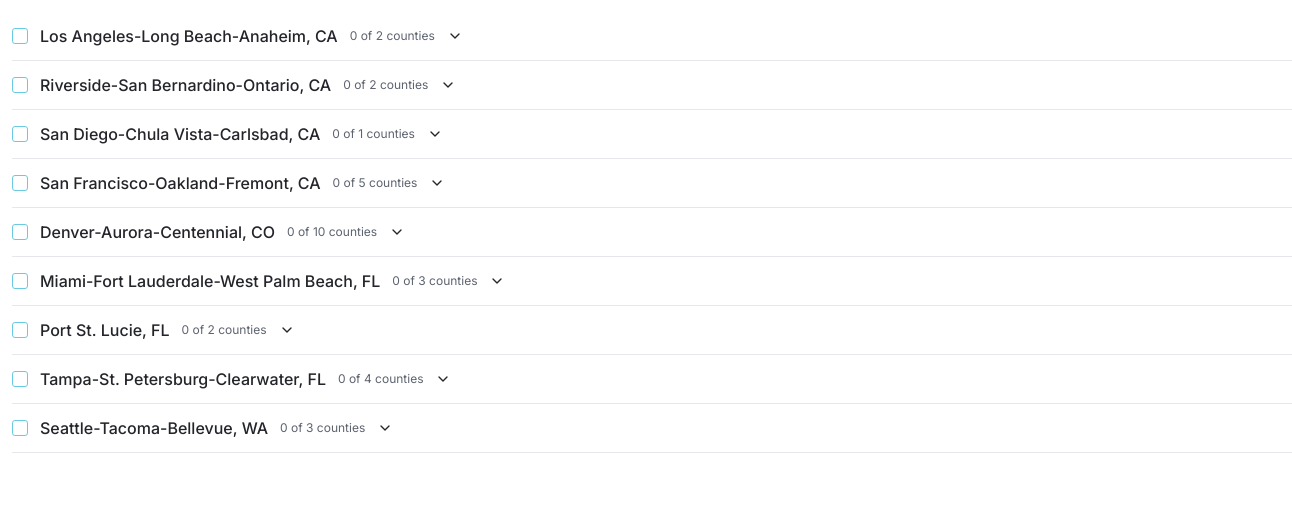
Test: CountySubscriptionAccordion › CountySubscriptionAccordion — renders counties grouped under their MSA
Expected: the text "Port St. Lucie, FL" is shown, [40,318,170,342]
What coordinates should you click on to do the following:
click the button "Port St. Lucie, FL 0 of 2 counties"
I would click on:
 (167, 330)
Its box is [40,306,295,354].
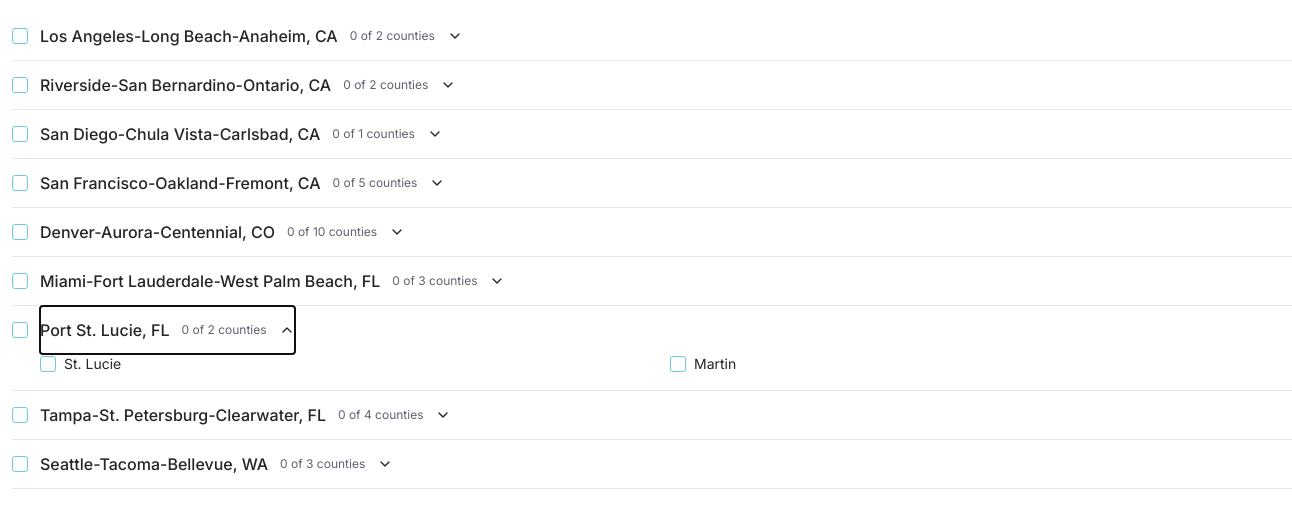
Now the 1st checkbox named "St. Lucie" is shown, box [40,356,56,372]
Now the checkbox named "Martin" next to "Martin" is shown, box [670,356,686,372]
